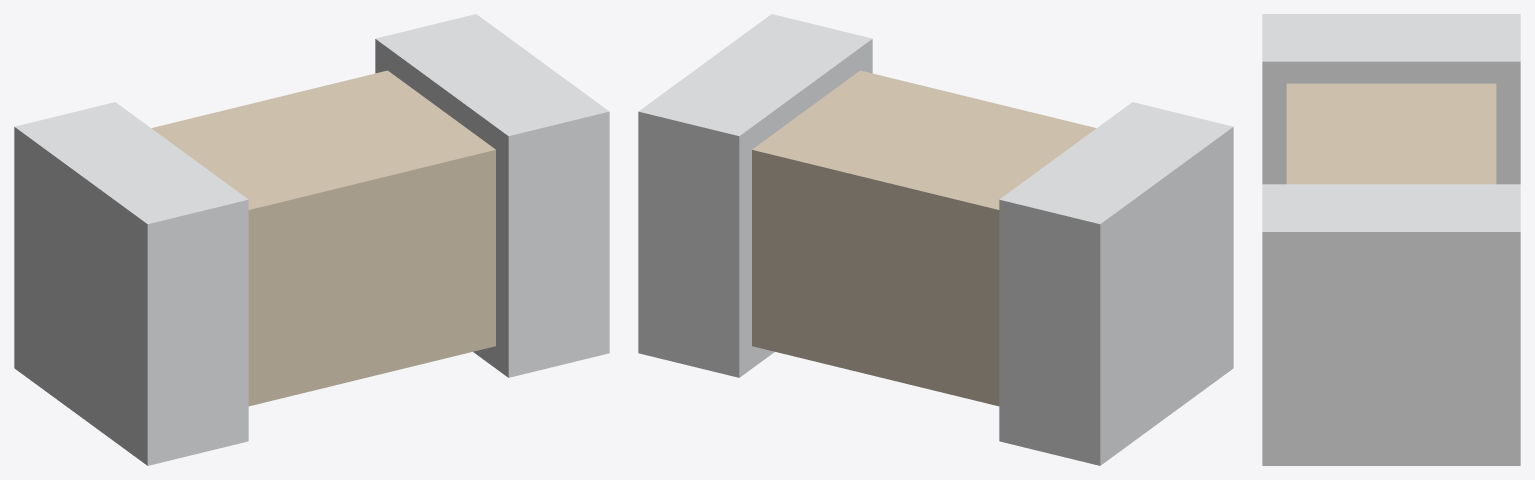
Rendered from mlcc_0603_exaggerated.glb.
3 views of the same model, side by side, from view 1: azimuth 30°, elevation 25°; view 2: azimuth 150°, elevation 25°; view 3: azimuth 270°, elevation 25° (orthographic). The views are drawn at different scales.
Parts seen in each view (by area): view 1: dielectric, tin_L, tin_R; view 2: dielectric, tin_L, tin_R; view 3: tin_R, tin_L, dielectric.
Boxes of the visible parts, x1,y1,x2,y2 form: dielectric: (151, 70, 495, 406); tin_L: (14, 102, 248, 465); tin_R: (375, 14, 609, 377); dielectric: (752, 70, 1096, 406); tin_L: (999, 102, 1233, 465); tin_R: (638, 14, 872, 377); tin_R: (1262, 184, 1520, 465); tin_L: (1262, 14, 1520, 184); dielectric: (1286, 83, 1496, 184).
Bounding box in the file's own units: 1.6 × 0.8 × 0.8.
